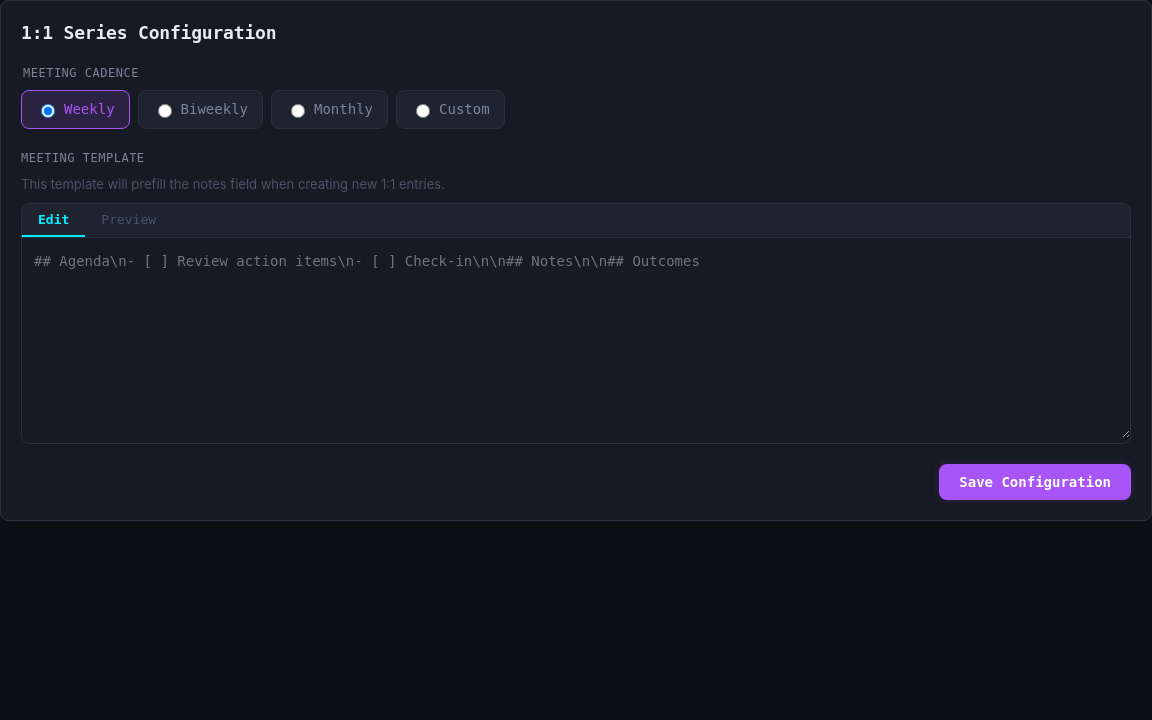
Scenario: SeriesConfigPanel › shows custom interval input only when CUSTOM is selected
Click the radio button with test id "cadence-option-custom": point(423, 111) [416,104,430,118]
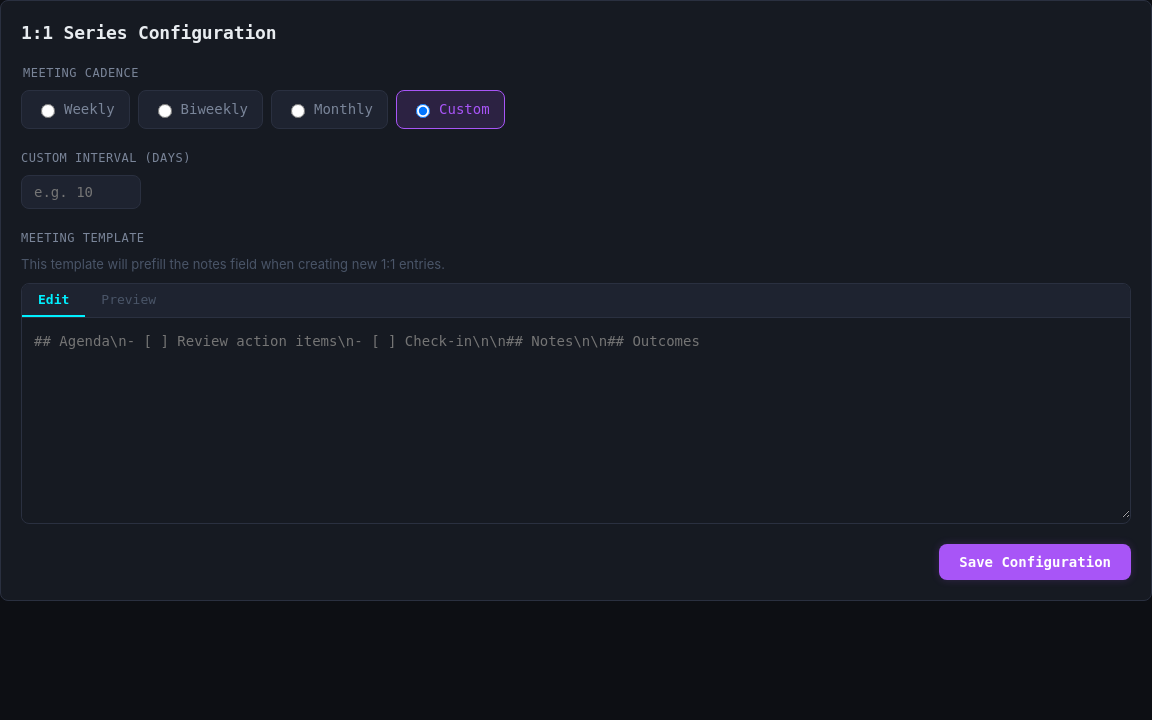
Result: the element with test id "custom-interval-section" is shown at [21,151,191,209]
Result: the number field with test id "custom-interval-input" is shown at [21,175,141,209]
